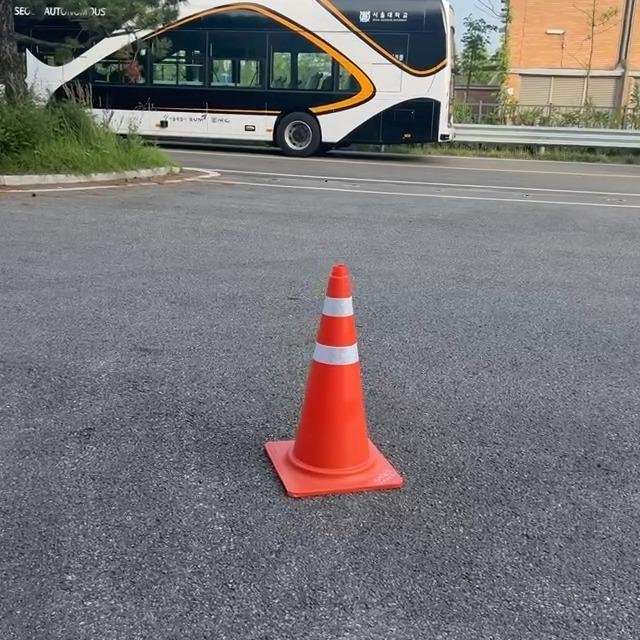fallen_object: (223, 256, 418, 523)
